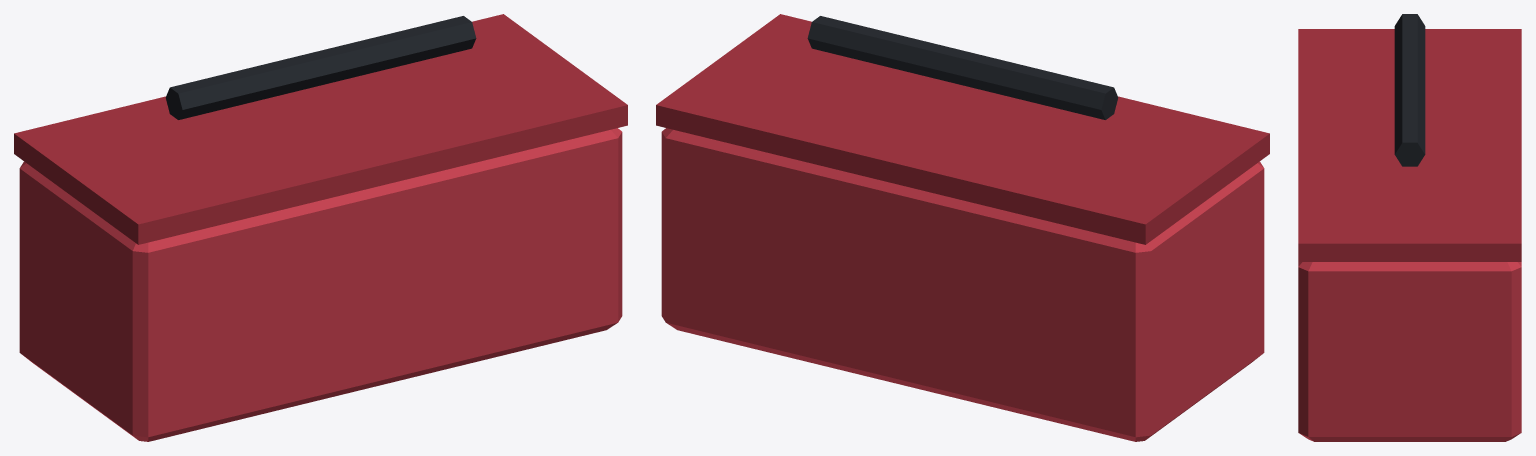
File: toolbox.glb
3 views of the same model, side by side, from view 1: azimuth 30°, elevation 25°; view 2: azimuth 150°, elevation 25°; view 3: azimuth 270°, elevation 25° (orthographic). The views are drawn at different scales.
Parts seen in each view (by area): view 1: toolbox; view 2: toolbox; view 3: toolbox.
Boxes of the visible parts, box(x1,y1,x2,y2) form: toolbox: box(14, 14, 627, 441); toolbox: box(656, 14, 1269, 441); toolbox: box(1298, 14, 1521, 441).
Bounding box in the file's own units: 0.5 × 0.283 × 0.22.
